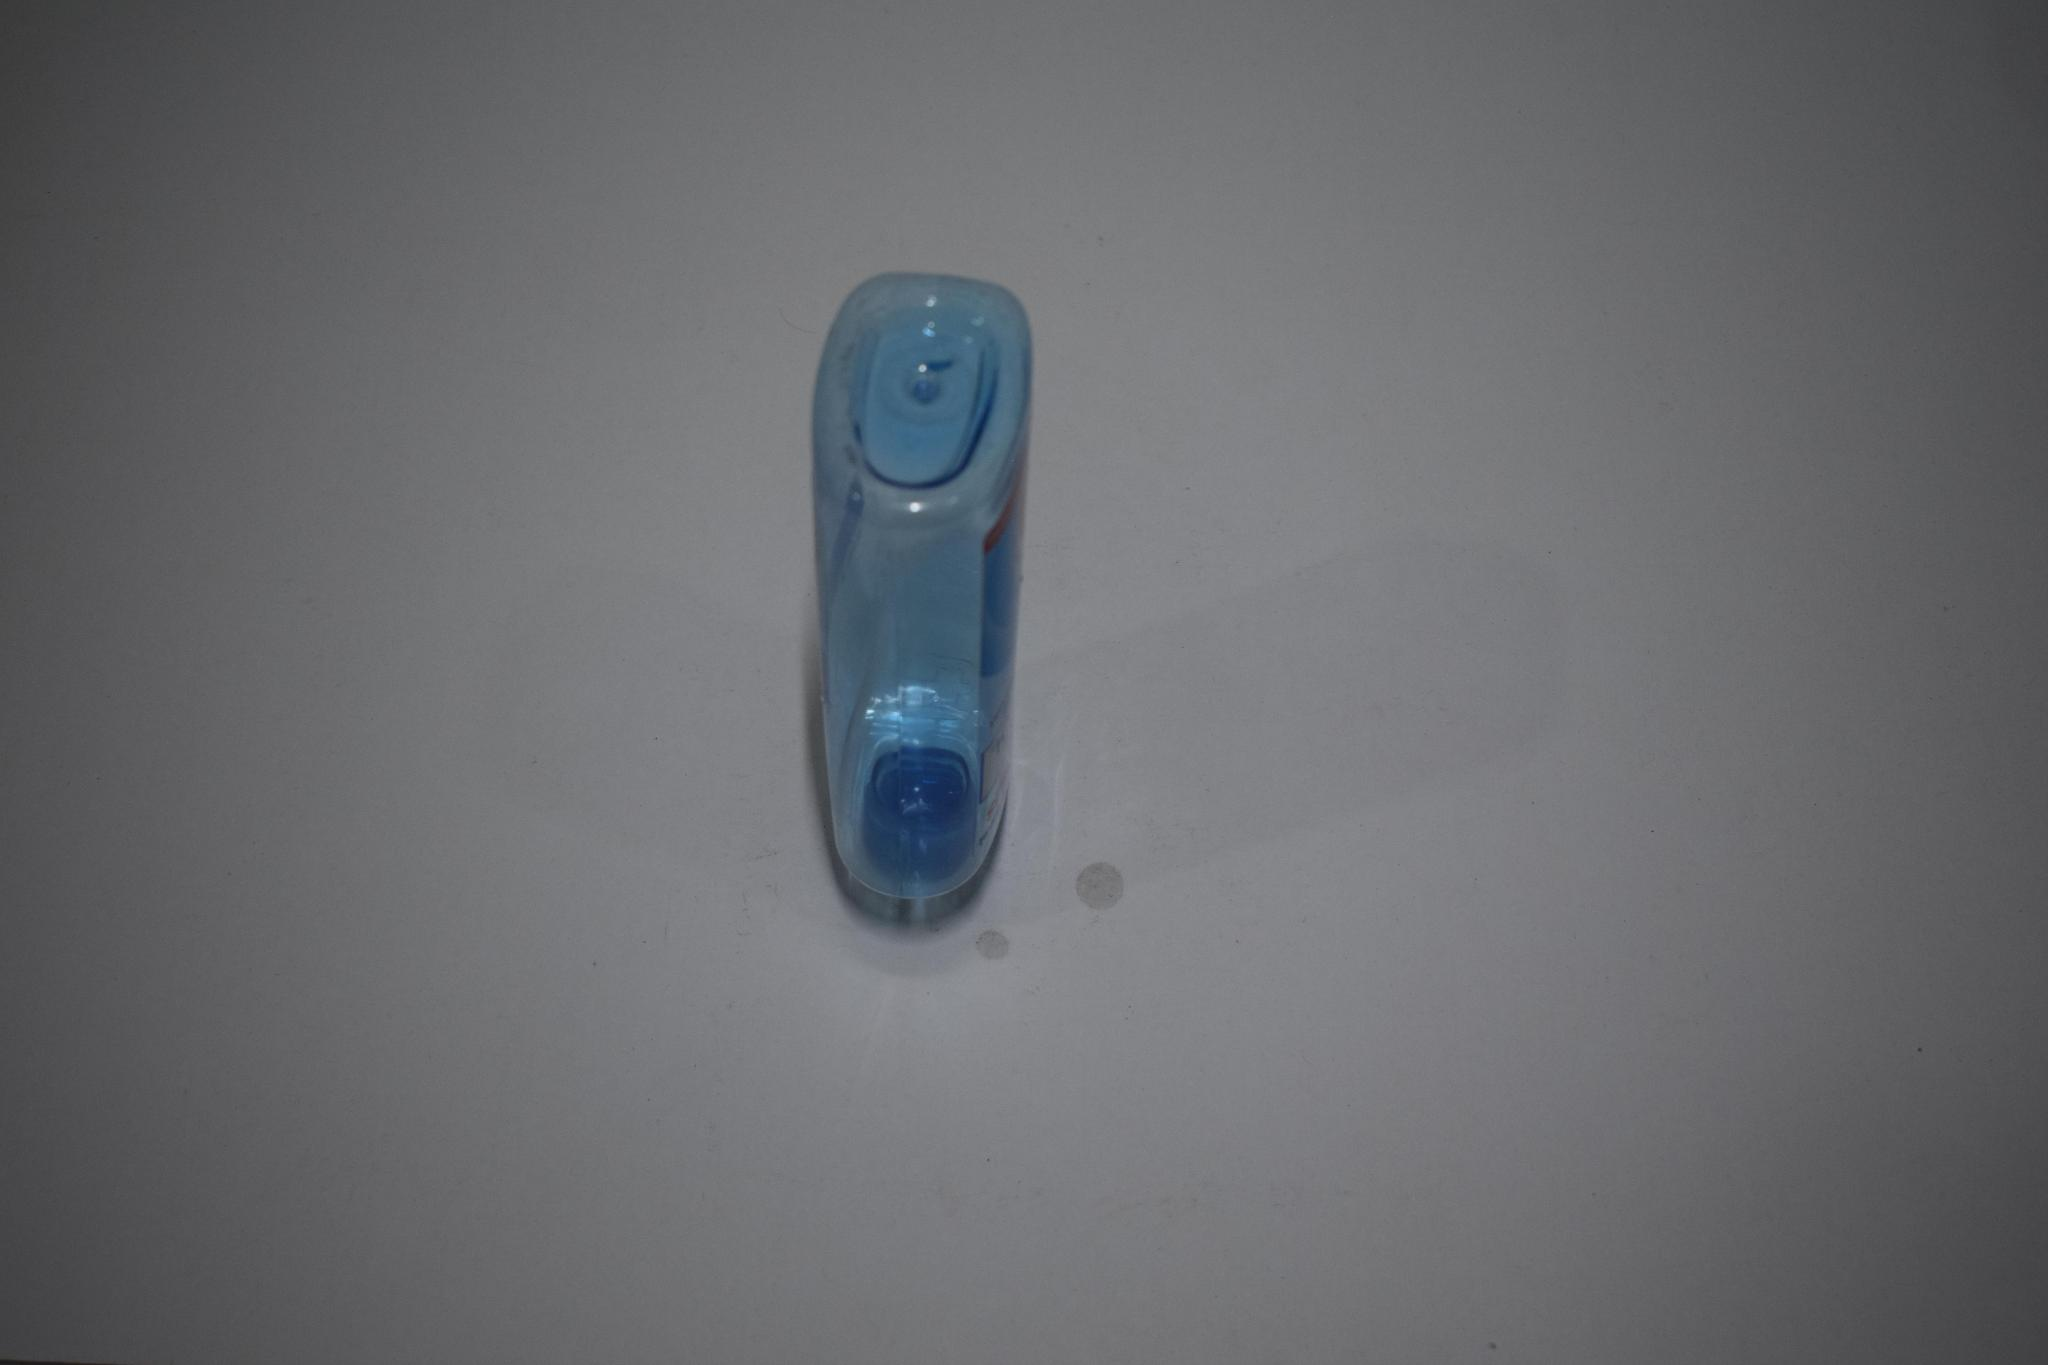bottle: (800, 260, 1044, 942)
